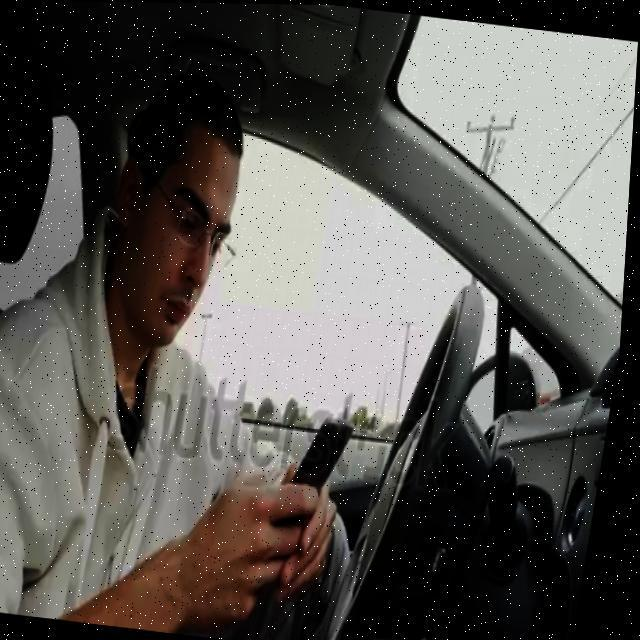PhoneCall: (290, 406, 362, 512)
